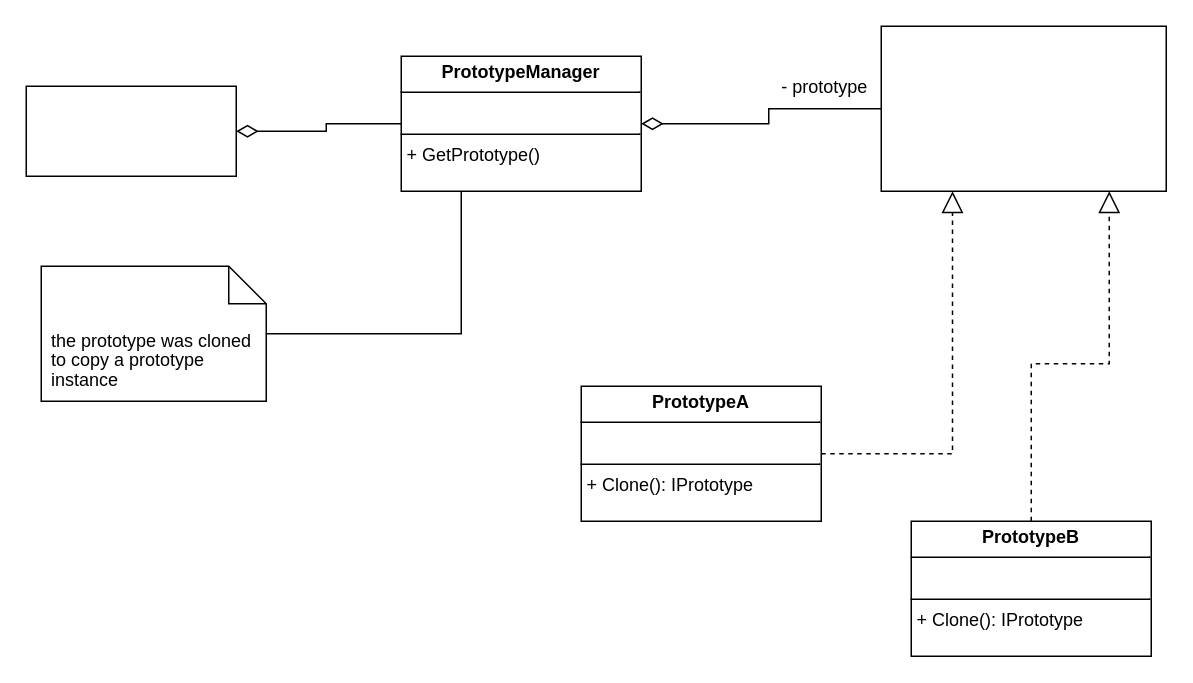
Some shapes in this 1193 by 683 pixel diagram are drawn without their labels. Here are the shapes that lost their labels. From the top down, the centre of each, then its label:
At point (1023, 108): "<<Interface>> IPrototype + Clone(): IPrototype".
At point (130, 130): "Client".
